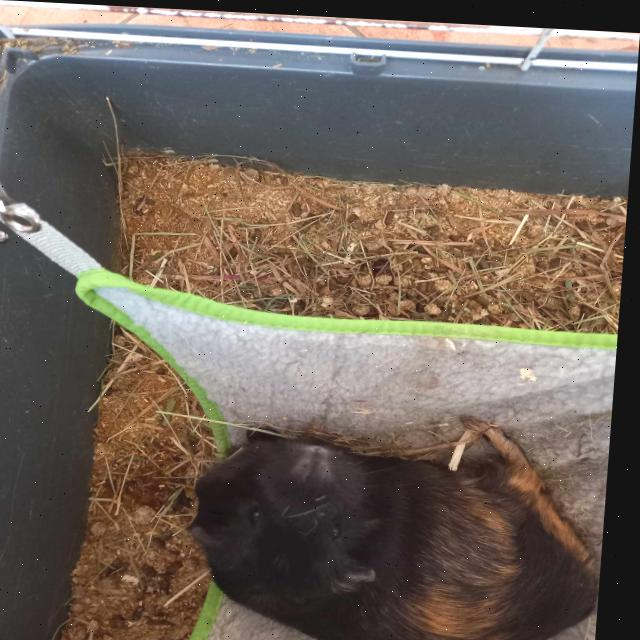guinea pig: (187, 399, 617, 640)
